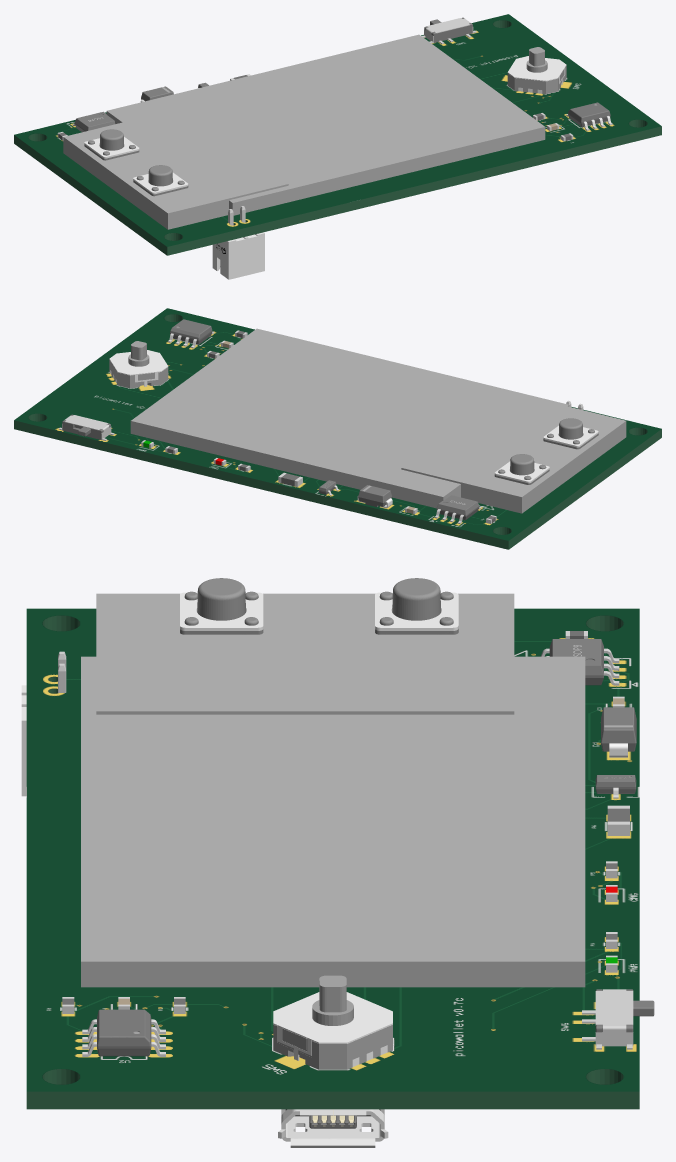
Rendered from board.glb.
The picture shows the model from 3 angles, top to bottom: view 1: azimuth 30°, elevation 25°; view 2: azimuth 150°, elevation 25°; view 3: azimuth 270°, elevation 25°; orthographic projection. The views are drawn at different scales.
Parts seen in each view (by area): view 1: DISP1, Box0, BT1, J2, SW5, SW2, SW1, SW6, U2, U3; view 2: DISP1, Box0, BT1, SW5, SW1, SW2, SW6, U2, U3, D1; view 3: DISP1, Box0, BT1, SW5, SW1, SW2, U1, U2, SW6, U3, D1, J2.
Part boxes in pixels (x1,y1,x2,y2): DISP1: (106,34,545,215); Box0: (14,14,661,255); BT1: (63,107,288,229); J2: (212,206,264,279); SW5: (507,47,566,94); SW2: (84,129,139,160); SW1: (133,165,188,196); SW6: (421,17,476,44); U2: (566,102,612,130); U3: (72,111,115,132); DISP1: (130,328,569,508); Box0: (14,308,661,549); BT1: (401,391,626,513); SW5: (109,341,168,388); SW1: (543,418,598,449); SW2: (494,454,549,484); SW6: (58,414,114,440); U2: (168,319,214,348); U3: (434,495,481,523); D1: (357,485,392,508); DISP1: (81,656,585,987); Box0: (26,608,639,1109); BT1: (96,593,514,714); SW5: (273,975,392,1069); SW1: (180,578,263,634); SW2: (375,578,458,634); U1: (278,1109,388,1147); U2: (82,1009,165,1056); SW6: (582,989,654,1049); U3: (541,639,619,685); D1: (601,707,636,757); J2: (21,651,66,796).
Bounding box in the file's own units: 82 × 12.4 × 45.4.
Materials: 31 (2 with a texture image).
